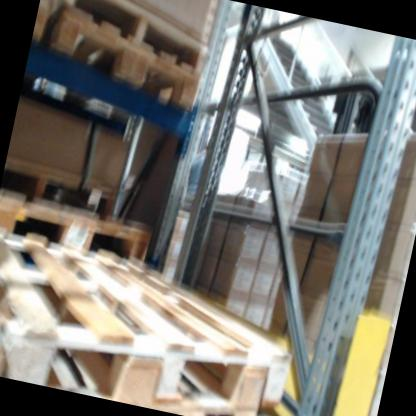pallet: (0, 223, 303, 416), (23, 0, 213, 114), (31, 0, 219, 77), (0, 182, 156, 266)
